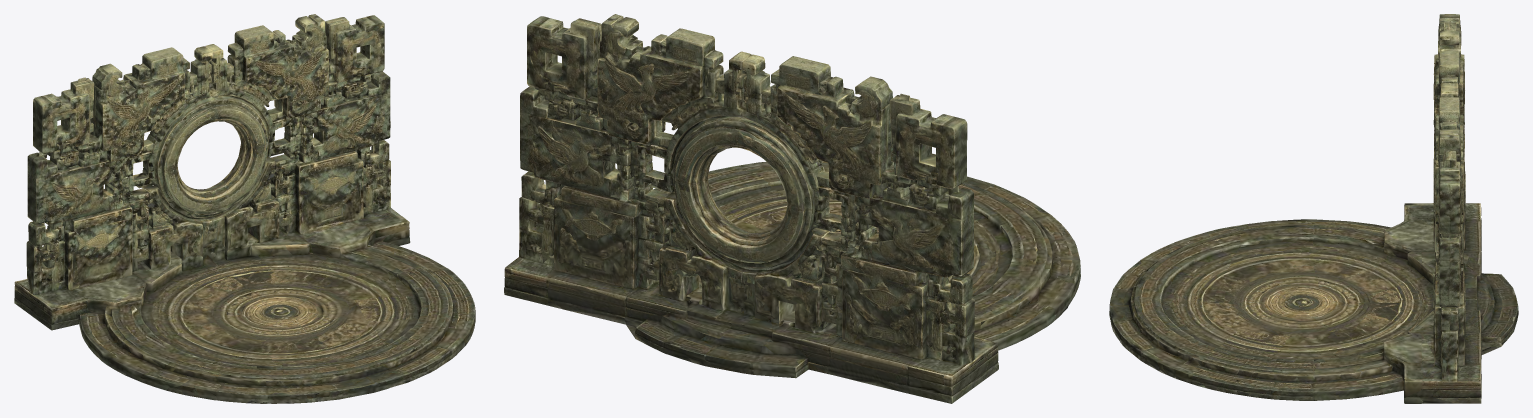
The model's file is 08-bronze-pattern.glb.
3 views of the same model, side by side, from view 1: azimuth 30°, elevation 25°; view 2: azimuth 150°, elevation 25°; view 3: azimuth 270°, elevation 25° (orthographic). The views are drawn at different scales.
Visible parts, largest first — view 1: mesh_node; view 2: mesh_node; view 3: mesh_node.
Boxes of the visible parts, left/top/right/bottom form: mesh_node: left=14, top=14, right=475, bottom=403; mesh_node: left=504, top=14, right=1080, bottom=403; mesh_node: left=1109, top=14, right=1518, bottom=403.
Size of the model in its own units: 1.9 by 1.16 by 1.83.
1 material, 1 textured.
